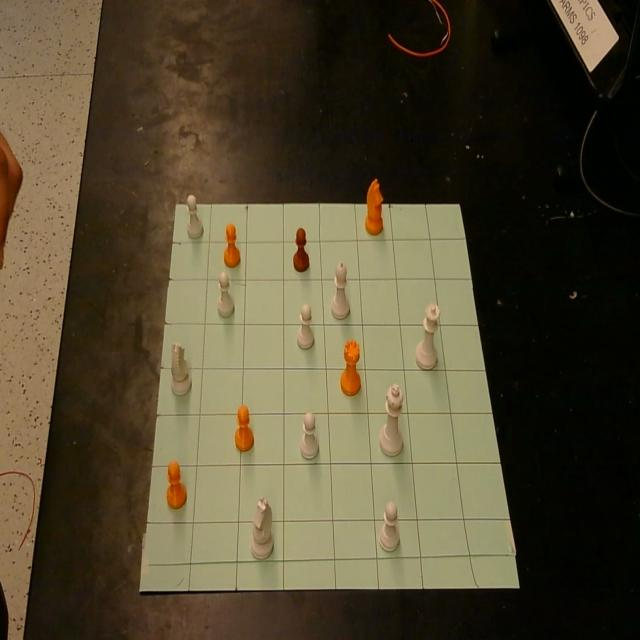orange_knight: (365, 178, 384, 235)
orange_pawn: (166, 460, 187, 509), (235, 404, 254, 451), (223, 222, 240, 268), (293, 228, 310, 272)
orange_rook: (341, 338, 361, 396)
white_bishop: (332, 261, 351, 320)
white_king: (379, 383, 405, 456)
white_knight: (250, 496, 274, 560), (170, 342, 192, 396)
white_pawn: (379, 501, 400, 552), (300, 410, 318, 460), (217, 270, 234, 318), (297, 304, 314, 349), (186, 195, 203, 240)
white_queen: (414, 302, 440, 370)
